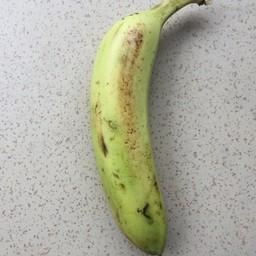Banana Ripe: (84, 2, 195, 256)
